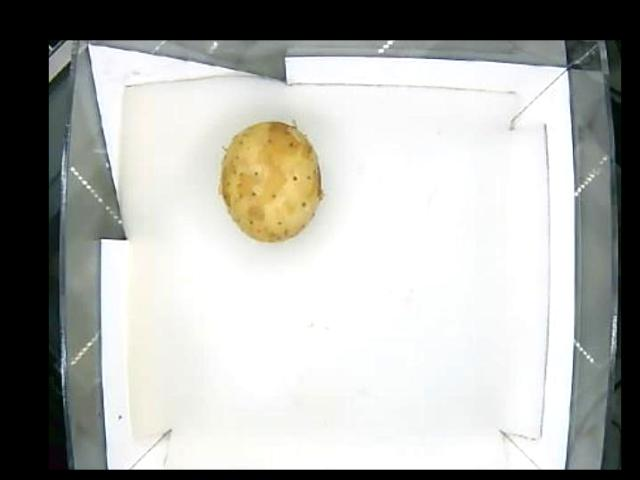Potato: (220, 121, 320, 243)
